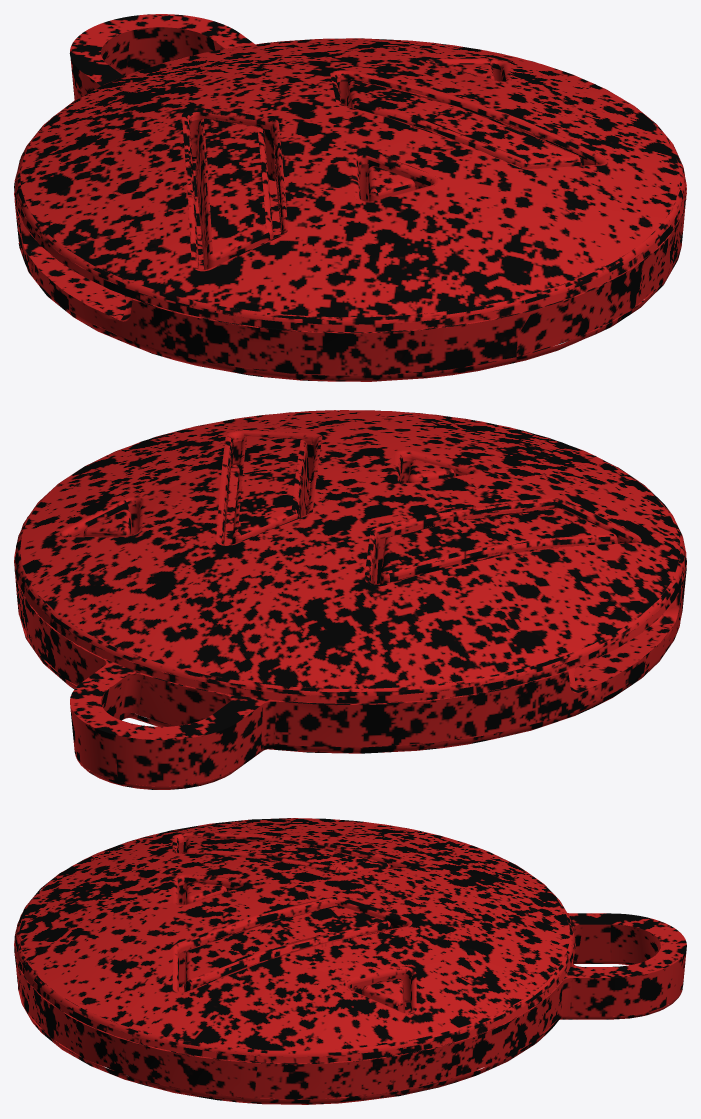
3 renders of one model, top to bottom at view 1: azimuth 30°, elevation 25°; view 2: azimuth 150°, elevation 25°; view 3: azimuth 270°, elevation 25°, orthographic. The views are drawn at different scales.
Parts seen in each view (by area): view 1: AnyConv.com__pendente 1 prova; view 2: AnyConv.com__pendente 1 prova; view 3: AnyConv.com__pendente 1 prova.
Part boxes in pixels (box(x1,y1,x2,y2)): AnyConv.com__pendente 1 prova: box(14, 14, 686, 381); AnyConv.com__pendente 1 prova: box(14, 410, 686, 789); AnyConv.com__pendente 1 prova: box(14, 818, 686, 1104).
Bounding box in the file's own units: 28 × 5.65 × 33.55.
1 material, 1 textured.
